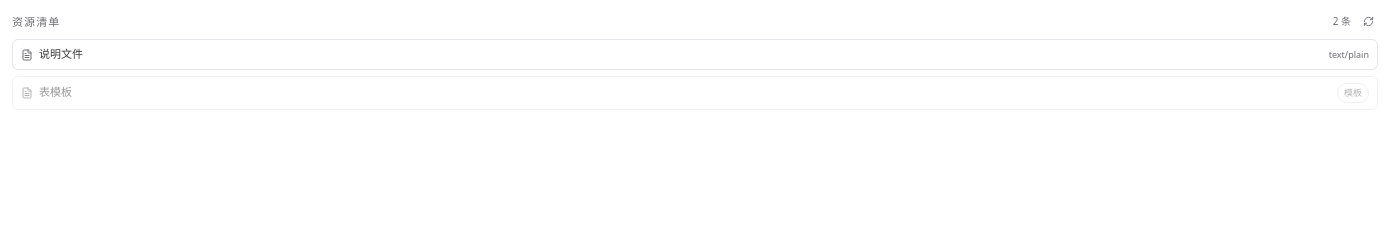
McpResourcePanel › 截断与二进制数据都给出明确提示
Click the button "说明文件 text/plain" at (61, 54), box [12,39,1378,70]
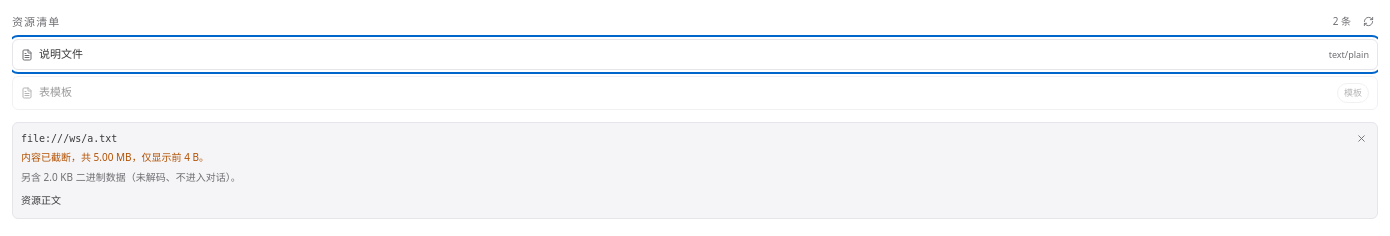
Expected: the text "内容已截断，共 5.00 MB，仅显示前 4 B。" is shown, [21,150,209,164]
Expected: the text "另含 2.0 KB 二进制数据（未解码、不进入对话）。" is shown, [21,170,241,184]
